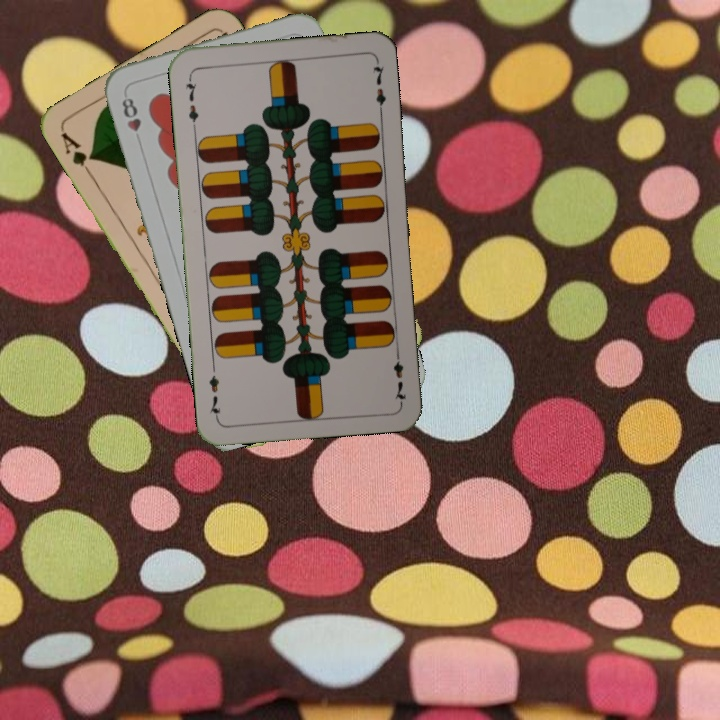E7: (181, 71, 201, 130), (389, 346, 409, 405)
GA: (57, 128, 97, 180)
H8: (118, 93, 144, 134)
